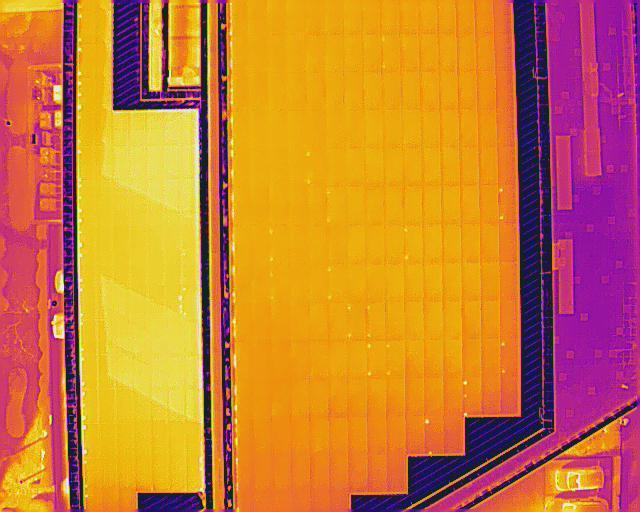Cell-Multi: (380, 32, 401, 73), (306, 148, 327, 187), (403, 223, 423, 263), (326, 187, 347, 225), (326, 263, 347, 301), (346, 302, 366, 341), (423, 416, 443, 455), (366, 301, 385, 341), (268, 223, 287, 263), (366, 339, 385, 378), (463, 376, 482, 415), (498, 184, 517, 222), (386, 340, 405, 378), (500, 338, 518, 377)
No-Anomaly: (305, 224, 326, 265), (418, 32, 439, 73), (286, 148, 307, 188), (327, 301, 347, 342), (457, 68, 477, 109), (271, 300, 291, 341), (304, 72, 325, 111), (326, 224, 347, 263), (384, 301, 405, 340), (475, 31, 496, 70), (271, 380, 292, 419), (253, 418, 275, 455), (382, 186, 402, 226), (343, 71, 363, 111), (441, 223, 461, 263), (401, 70, 421, 110), (462, 300, 482, 340), (347, 377, 367, 417), (443, 414, 463, 454), (438, 31, 458, 71), (362, 72, 383, 110), (385, 417, 406, 455), (254, 455, 275, 493), (270, 341, 291, 379), (272, 419, 294, 455), (384, 263, 404, 302), (442, 262, 462, 301), (477, 70, 497, 109), (460, 185, 480, 224), (364, 186, 384, 225), (403, 263, 423, 302), (384, 224, 404, 263), (285, 34, 305, 73), (361, 33, 381, 72), (342, 33, 362, 72), (401, 109, 421, 148), (405, 377, 425, 416), (304, 34, 324, 73), (458, 108, 478, 147), (347, 417, 367, 456), (309, 418, 329, 457), (443, 340, 463, 379), (385, 378, 405, 417), (402, 147, 422, 186), (248, 109, 268, 148), (308, 301, 327, 342), (346, 146, 365, 187), (424, 338, 443, 379), (305, 187, 326, 224), (305, 111, 326, 148), (269, 148, 288, 188), (288, 224, 307, 264), (480, 223, 499, 263), (382, 70, 401, 110), (441, 185, 461, 223), (285, 72, 305, 110), (290, 302, 310, 340), (420, 71, 440, 109), (325, 71, 344, 111), (423, 301, 443, 339), (460, 147, 480, 185), (462, 339, 482, 377), (424, 378, 444, 416), (309, 378, 328, 418), (286, 109, 306, 147), (344, 110, 364, 148), (367, 377, 386, 417), (364, 146, 383, 186), (266, 34, 286, 72), (400, 34, 420, 72), (481, 339, 501, 377), (347, 263, 366, 302), (440, 71, 459, 110), (366, 263, 385, 302), (461, 223, 480, 262), (403, 185, 422, 224), (443, 301, 462, 340), (247, 33, 266, 72), (422, 147, 441, 186), (421, 109, 440, 148), (367, 417, 386, 456), (329, 417, 348, 456), (327, 148, 346, 187), (383, 147, 402, 186), (291, 419, 311, 456), (477, 109, 497, 146), (347, 455, 367, 492), (363, 110, 383, 147), (251, 148, 269, 189), (481, 301, 500, 339), (247, 72, 266, 110), (480, 263, 499, 301), (461, 262, 480, 300), (422, 185, 441, 223), (479, 185, 498, 223), (324, 35, 343, 73), (347, 340, 366, 378), (440, 147, 459, 185), (444, 378, 463, 416), (440, 109, 459, 147), (497, 108, 516, 146), (382, 109, 401, 147), (482, 376, 501, 414), (291, 341, 310, 379), (495, 32, 514, 70), (497, 146, 516, 184), (458, 31, 477, 69), (405, 340, 424, 378), (479, 146, 498, 184), (234, 224, 252, 264), (423, 223, 441, 263), (385, 456, 405, 492), (329, 378, 347, 418), (308, 264, 327, 301), (365, 225, 384, 262), (267, 72, 286, 109), (309, 343, 328, 380), (326, 111, 345, 148), (251, 224, 269, 263), (347, 186, 365, 225), (236, 300, 254, 339), (496, 69, 514, 108), (500, 261, 518, 300), (234, 148, 252, 187), (254, 380, 272, 419), (268, 108, 286, 147), (380, 0, 401, 33), (347, 224, 365, 262), (423, 263, 441, 301), (286, 187, 305, 223), (237, 456, 256, 492), (329, 456, 348, 492), (254, 341, 272, 379), (237, 379, 255, 417), (310, 457, 329, 493), (254, 300, 271, 340), (323, 0, 343, 34), (499, 223, 516, 263), (270, 264, 290, 298), (405, 302, 423, 339), (329, 340, 347, 377), (292, 456, 310, 493), (250, 188, 269, 223), (238, 419, 257, 454), (500, 299, 517, 338), (292, 380, 309, 419), (274, 455, 291, 494), (407, 416, 424, 455), (361, 0, 381, 33), (368, 455, 386, 491), (268, 188, 287, 222), (285, 0, 304, 34), (501, 376, 518, 414), (237, 341, 254, 379), (438, 0, 457, 33), (247, 0, 266, 33), (343, 0, 362, 33), (252, 265, 270, 299), (305, 0, 323, 34), (235, 264, 253, 298), (290, 265, 307, 301), (267, 0, 285, 34), (232, 34, 248, 72), (419, 0, 438, 32), (475, 0, 494, 32), (401, 0, 419, 33), (233, 110, 248, 149), (234, 188, 250, 224), (457, 0, 475, 32), (494, 0, 512, 32), (231, 0, 248, 33), (233, 73, 247, 108)
